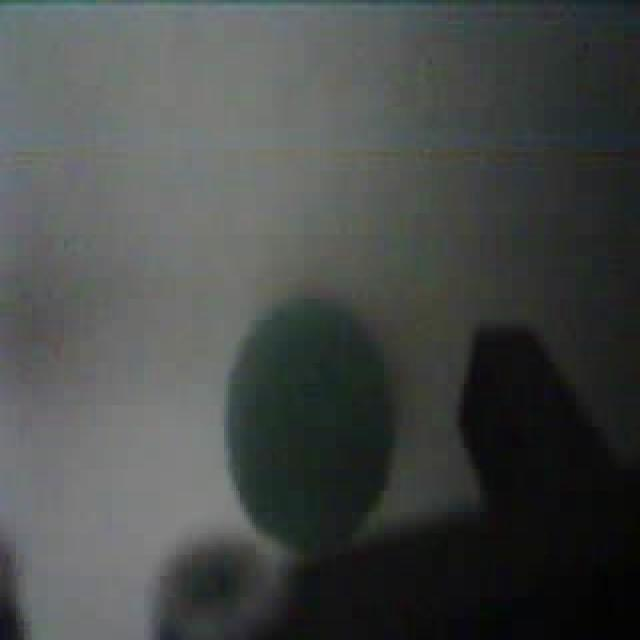green_ball: (220, 291, 400, 560)
